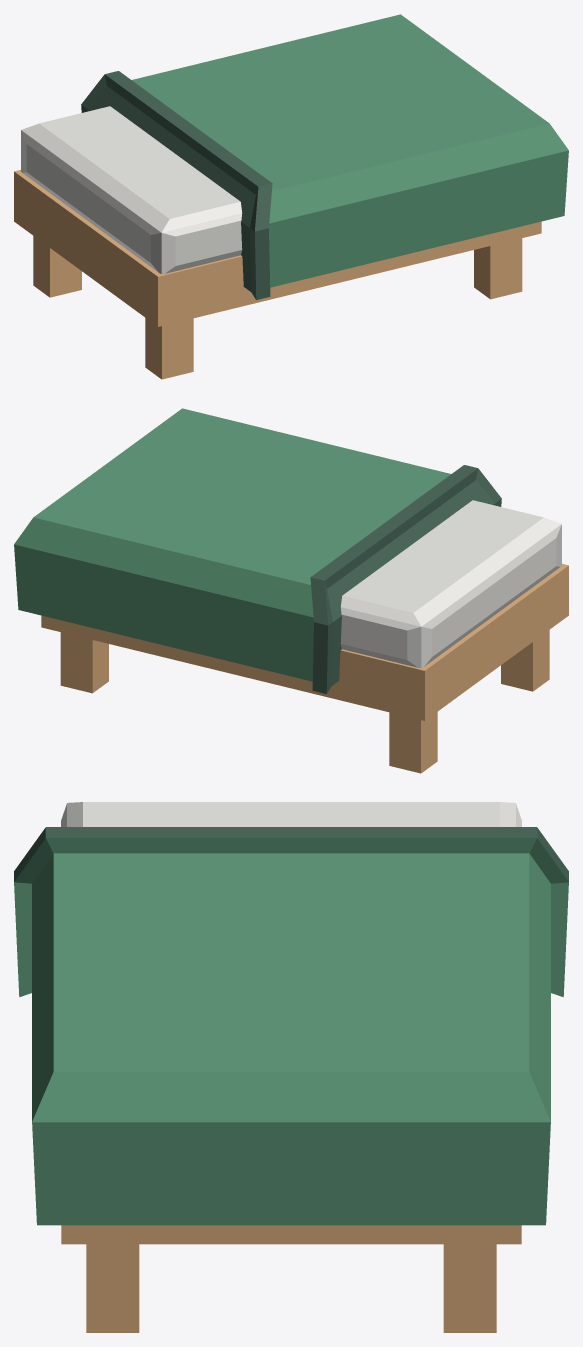
File: bed.fbx
The picture shows the model from 3 angles, top to bottom: view 1: azimuth 30°, elevation 25°; view 2: azimuth 150°, elevation 25°; view 3: azimuth 270°, elevation 25°; orthographic projection. The views are drawn at different scales.
Visible parts, largest first — view 1: bed; view 2: bed; view 3: bed.
Boxes of the visible parts, bbox=[...] form: bed: bbox=[14, 14, 568, 379]; bed: bbox=[14, 408, 568, 773]; bed: bbox=[14, 802, 568, 1332].
Size of the model in its own units: 170 by 227 by 97.89.
